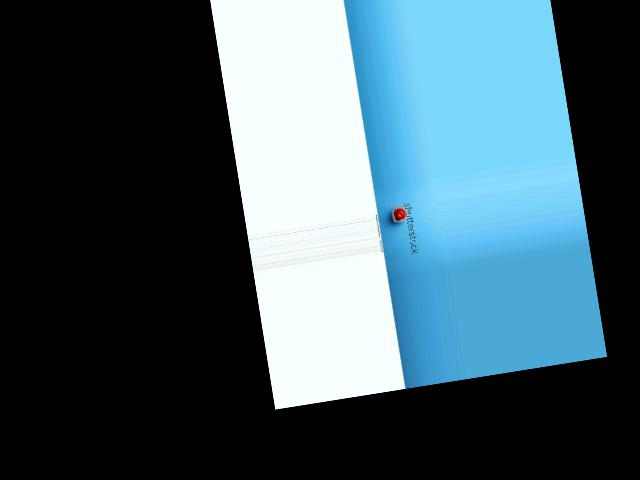tomato: (393, 208, 406, 221)
